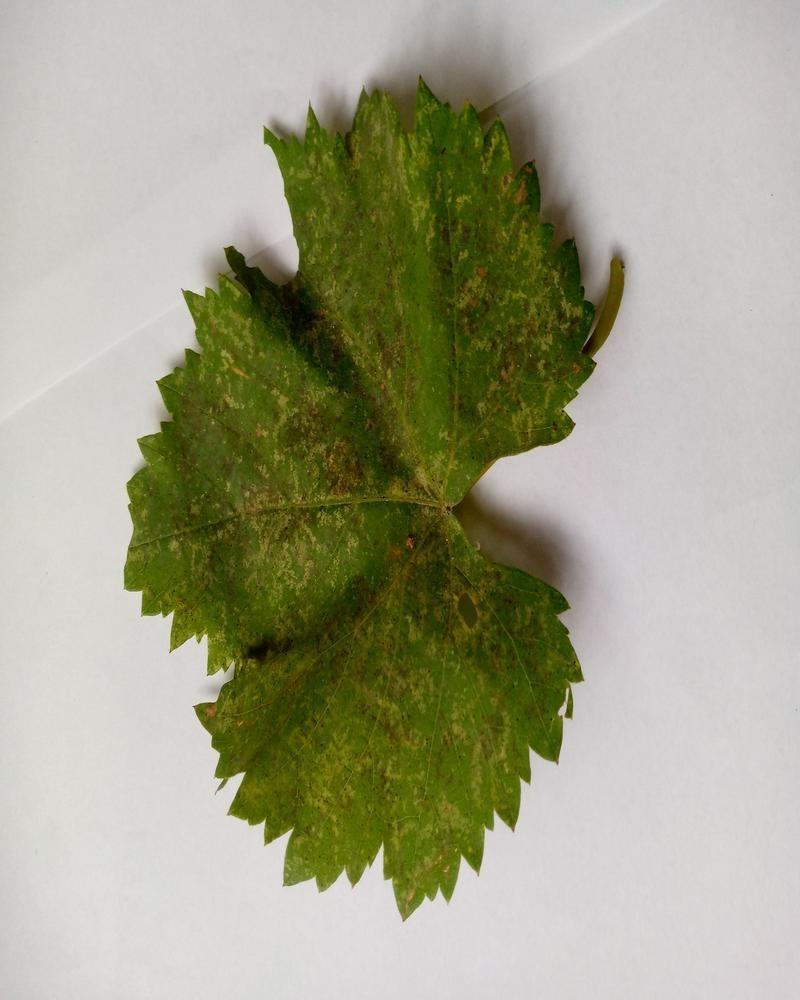Powdery-Mildew: (359, 640, 526, 908), (210, 384, 381, 585), (463, 165, 585, 443), (304, 196, 407, 417), (354, 127, 465, 251), (196, 288, 279, 404), (388, 448, 451, 511), (160, 536, 223, 599), (442, 565, 505, 628)
